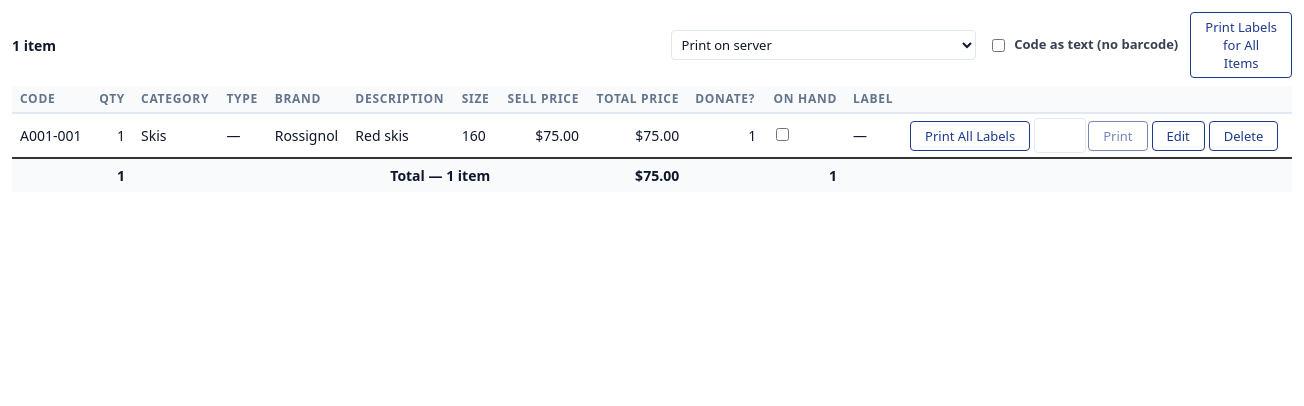
Scenario: ItemList › clicking Edit opens a panel with pre-filled description and price
Click the button "Edit": x=1178, y=136 [1152,121,1205,151]
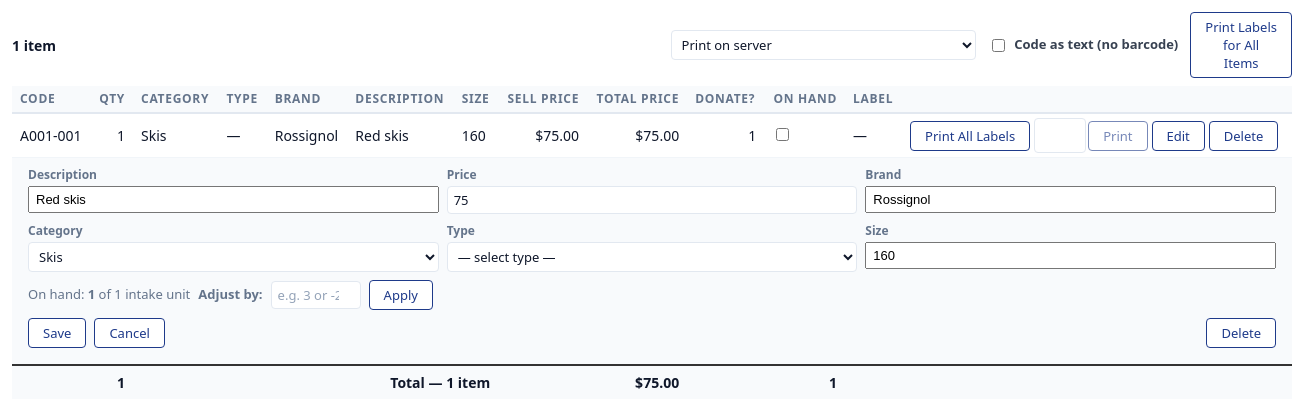
Check: the 1st field showing "Red skis" is shown, box [28,186,439,213]
Check: the number field showing "75" is shown, box [447,186,857,214]
